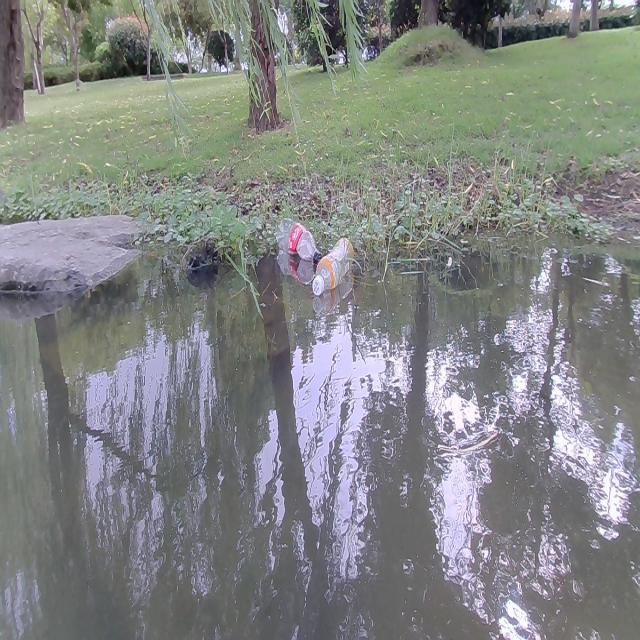bottle: (312, 238, 356, 296), (273, 210, 323, 261)
